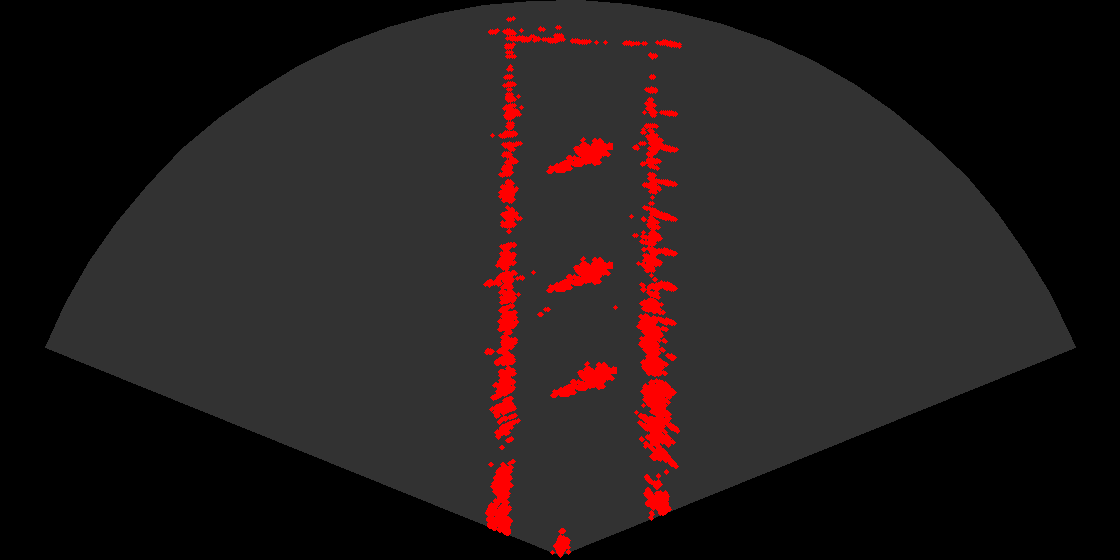frogman: (545, 250, 613, 297), (545, 131, 613, 178), (549, 355, 617, 402)
